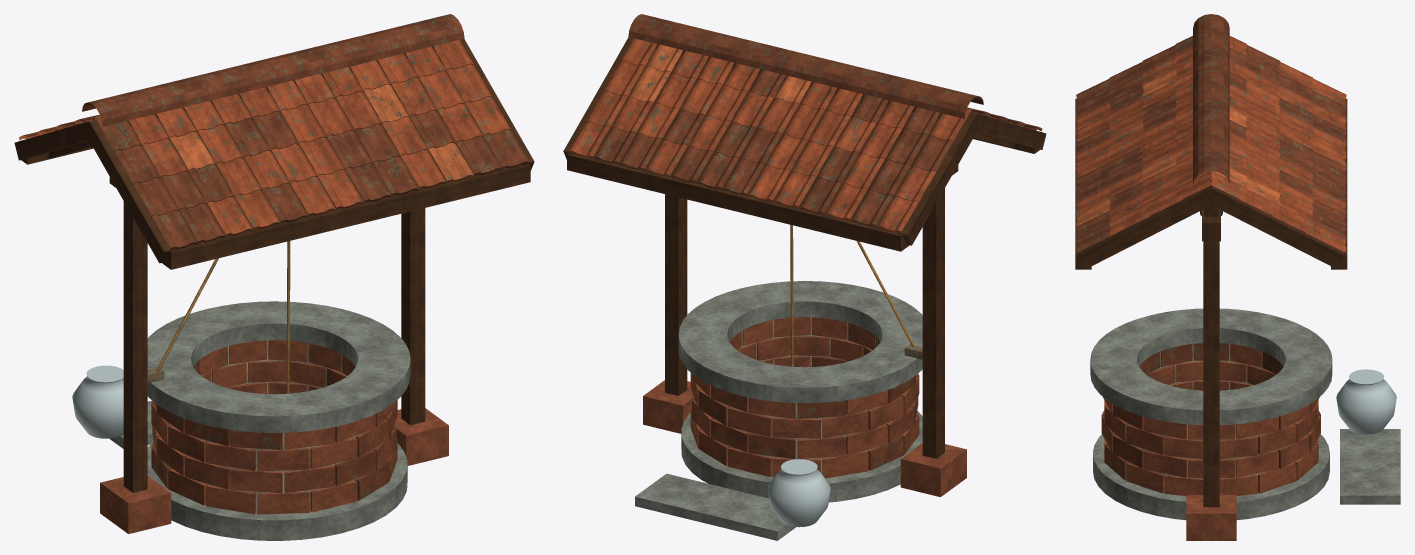
The model's file is BLD_Well_Roofed_01.gltf.
3 renders of one model, left to right at view 1: azimuth 30°, elevation 25°; view 2: azimuth 150°, elevation 25°; view 3: azimuth 270°, elevation 25°, orthographic. The views are drawn at different scales.
Visible parts, largest first — view 1: TF3_BLD_Well_Roofed_01; view 2: TF3_BLD_Well_Roofed_01; view 3: TF3_BLD_Well_Roofed_01.
Boxes of the visible parts, box(x1,y1,x2,y2) form: TF3_BLD_Well_Roofed_01: box(14, 14, 534, 540); TF3_BLD_Well_Roofed_01: box(563, 14, 1046, 540); TF3_BLD_Well_Roofed_01: box(1075, 14, 1400, 540).
Size of the model in its own units: 3.02 by 3.31 by 2.58.
Materials: 13 (10 with a texture image).
